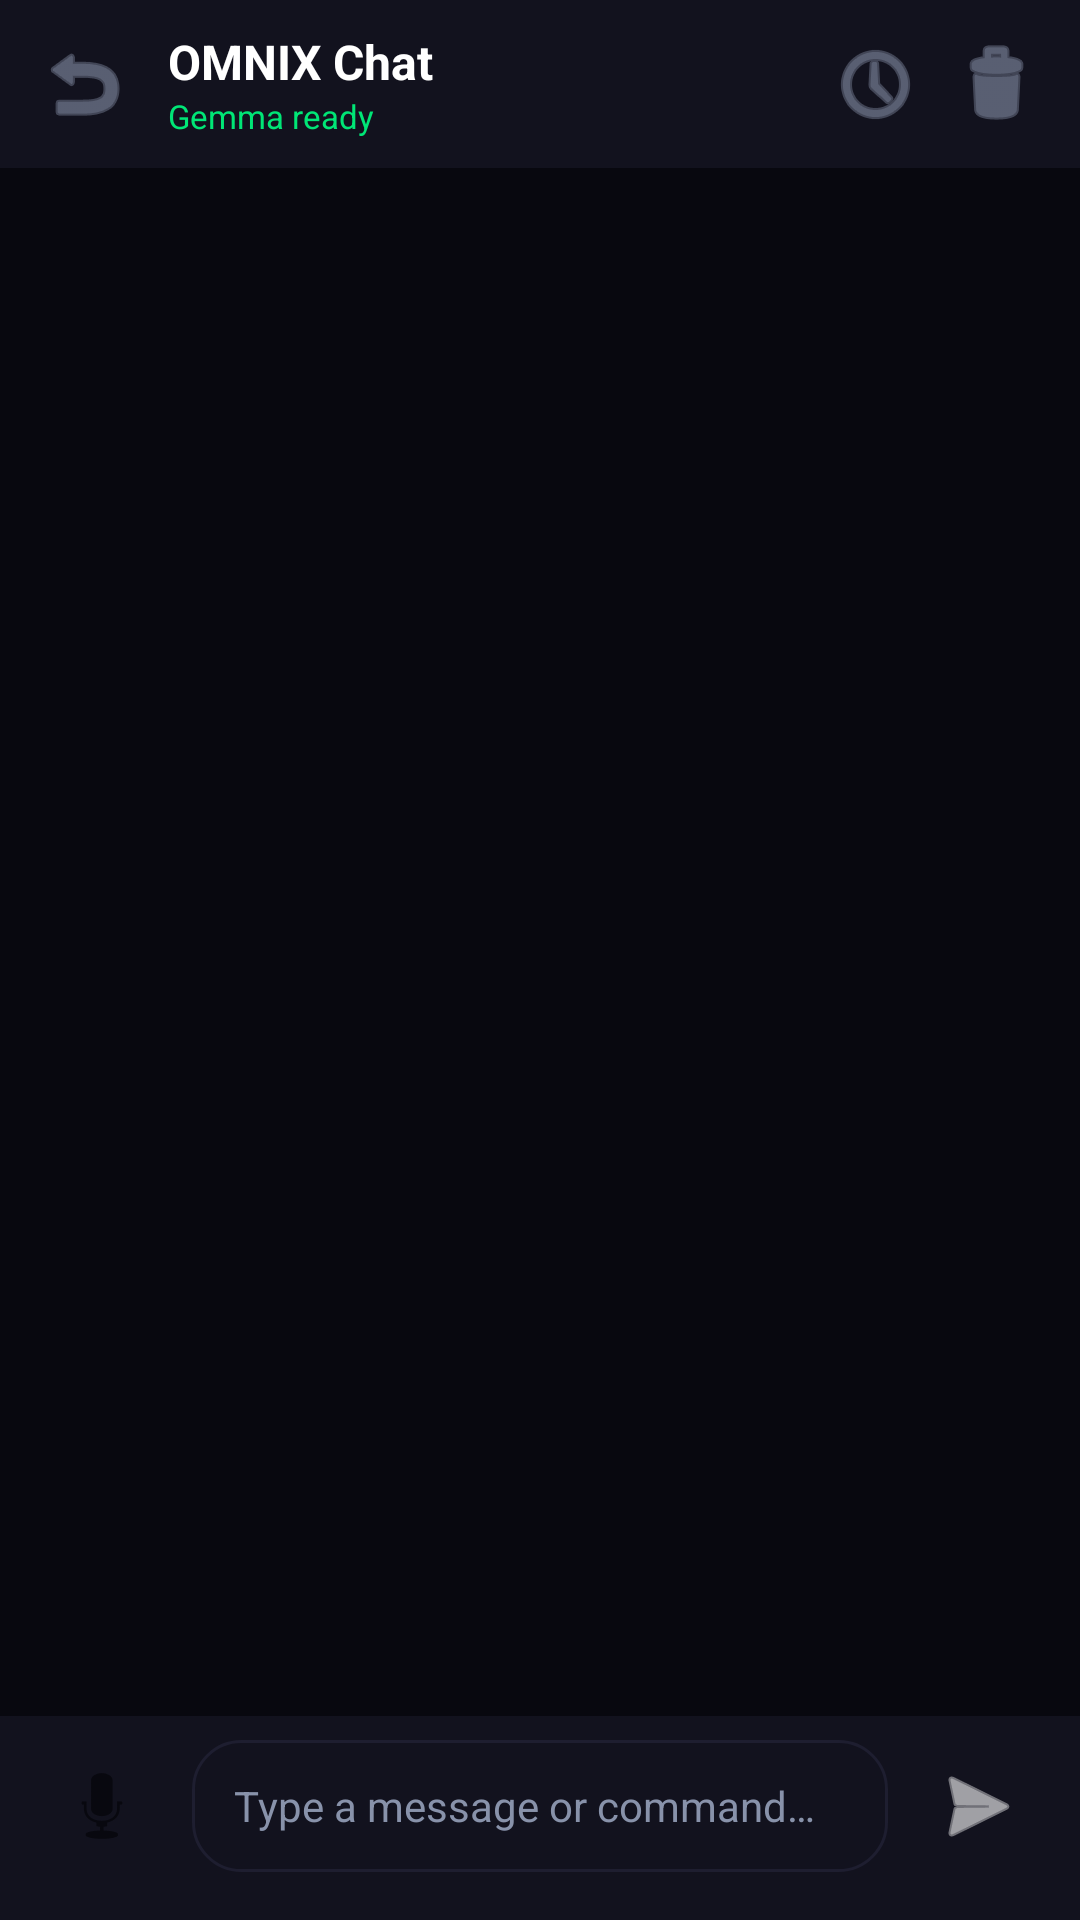

Where to tap for icons on this 1080×1920 app screen, as point (x, y):
Back: point (85, 85)
Chat history: point (875, 84)
Clear chat: point (996, 82)
Send: point (979, 1806)
